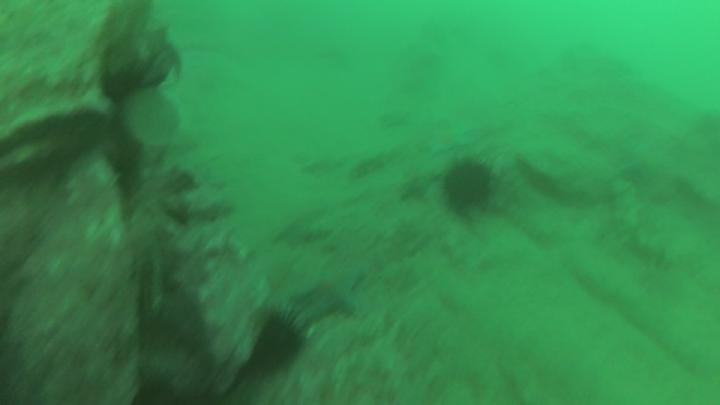echinus: (252, 317, 300, 369), (446, 162, 493, 210)
holothurian: (609, 183, 679, 271), (348, 146, 400, 175)
starfish: (291, 262, 370, 316), (397, 174, 431, 199)
